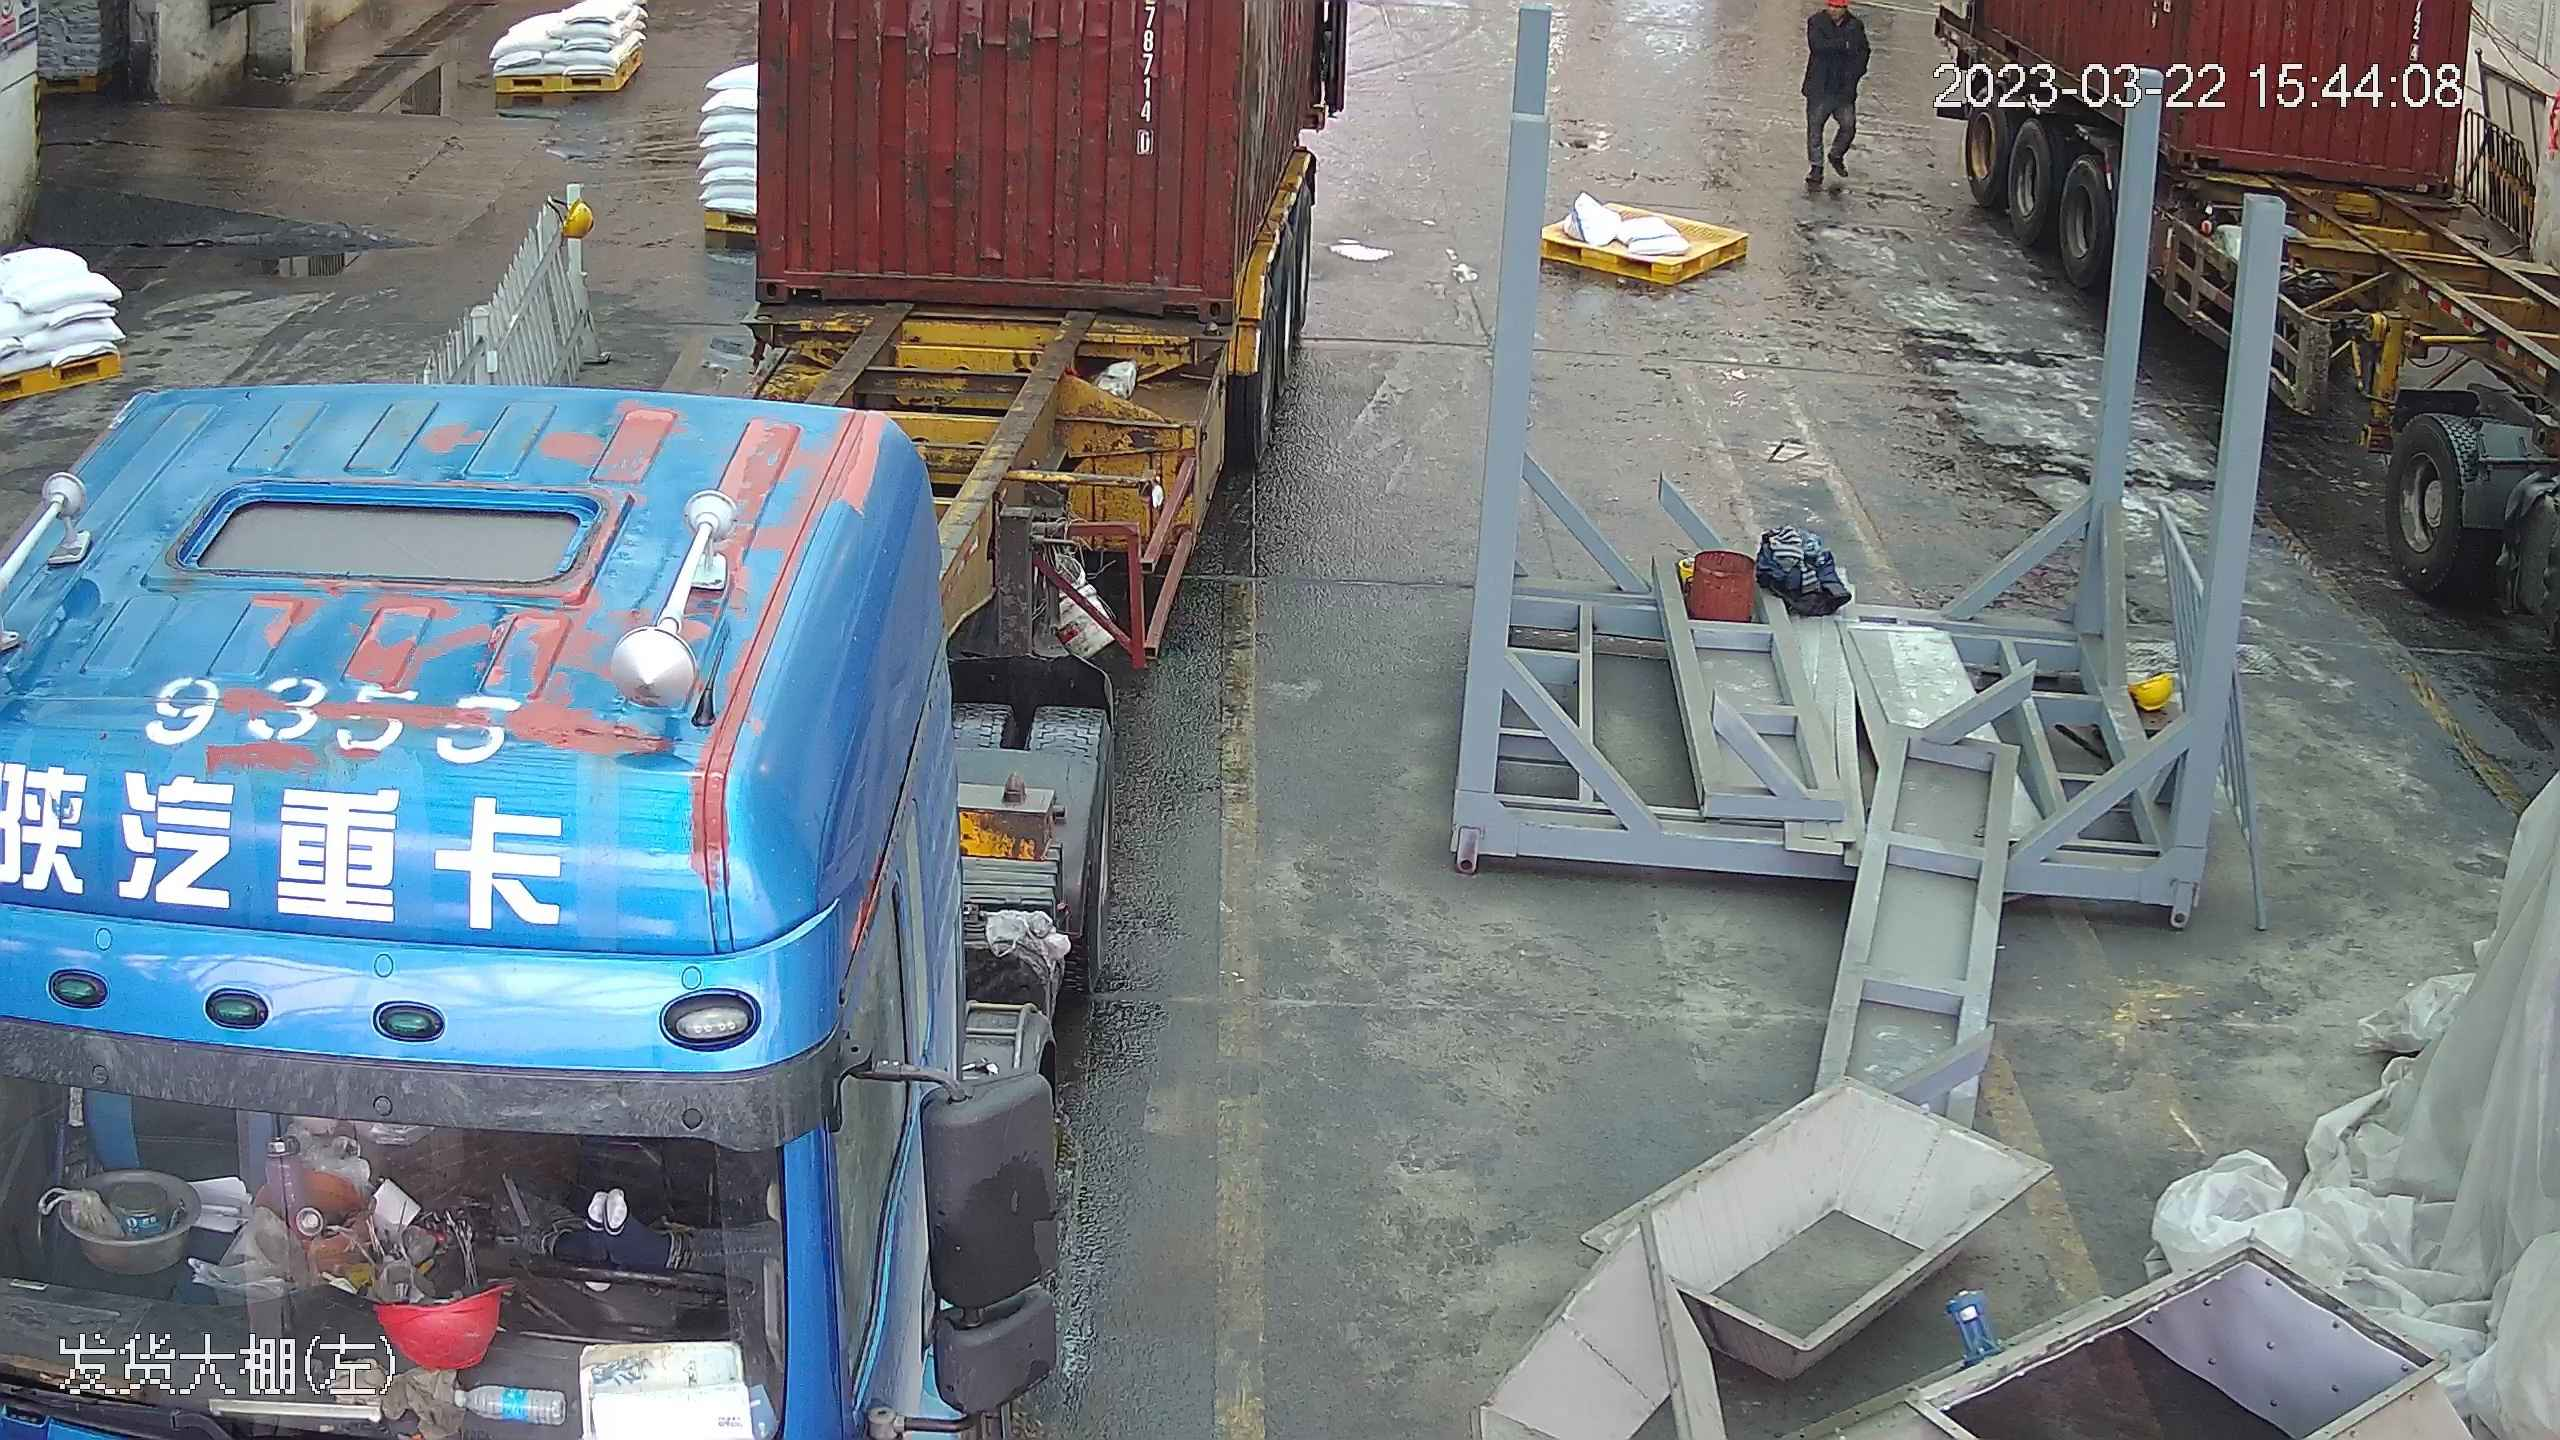helmet: (560, 197, 593, 233)
people: (1799, 1, 1869, 201)
truck: (1, 1, 1366, 1419)
